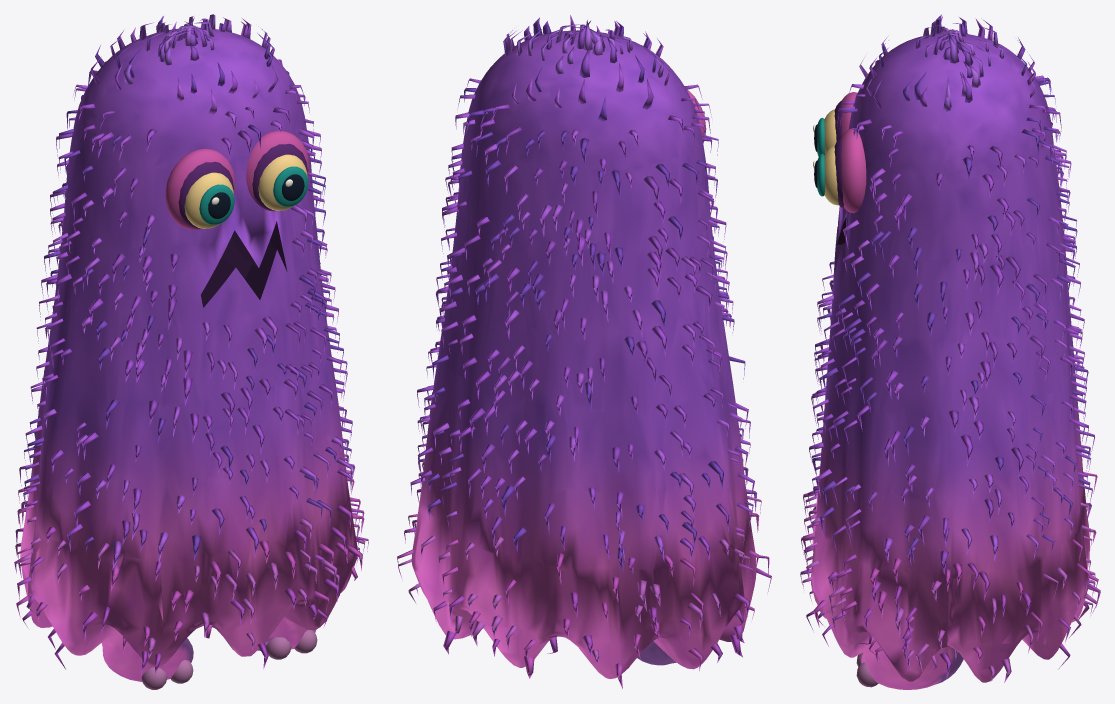
File: 09-paarse-spook.glb
The picture shows the model from 3 angles, left to right: view 1: azimuth 30°, elevation 25°; view 2: azimuth 150°, elevation 25°; view 3: azimuth 270°, elevation 25°; orthographic projection.
Visible parts, largest first — view 1: body_001, head_004, body_051, body_052, body_013, body_027, head_003, head_011, body_049, body_025, body_045, head_012 (+25 smaller); view 2: head_002, body_002, body_041, body_042, head_001, body_010, body_017, head_007, body_040, body_038, body_032, body_060 (+25 smaller); view 3: head_001, head_003, body_015, body_016, body_058, body_007, body_012, body_029, body_030, body_054, body_020, body_009 (+21 smaller).
Part boxes in pixels (left/top/right/bottom): body_001: left=31, top=536, right=163, bottom=681; head_004: left=84, top=30, right=237, bottom=165; body_051: left=41, top=460, right=169, bottom=570; body_052: left=50, top=380, right=162, bottom=489; body_013: left=61, top=304, right=173, bottom=402; body_027: left=66, top=225, right=177, bottom=329; head_003: left=184, top=21, right=309, bottom=158; head_011: left=71, top=147, right=178, bottom=256; body_049: left=158, top=387, right=252, bottom=484; body_025: left=160, top=546, right=256, bottom=640; body_045: left=163, top=469, right=250, bottom=560; head_012: left=165, top=148, right=241, bottom=245; head_002: left=535, top=20, right=689, bottom=175; body_002: left=611, top=545, right=749, bottom=688; body_041: left=609, top=468, right=735, bottom=576; body_042: left=611, top=387, right=729, bottom=492; head_001: left=457, top=21, right=595, bottom=162; body_010: left=600, top=310, right=721, bottom=414; body_017: left=596, top=230, right=712, bottom=337; head_007: left=595, top=149, right=698, bottom=259; body_040: left=515, top=402, right=613, bottom=491; body_038: left=513, top=481, right=611, bottom=584; body_032: left=520, top=557, right=613, bottom=642; body_060: left=519, top=325, right=605, bottom=415; head_001: left=938, top=30, right=1061, bottom=180; head_003: left=837, top=30, right=956, bottom=178; body_015: left=944, top=468, right=1072, bottom=591; body_016: left=946, top=391, right=1058, bottom=501; body_058: left=946, top=544, right=1067, bottom=652; body_007: left=945, top=312, right=1058, bottom=420; body_012: left=947, top=233, right=1053, bottom=339; body_029: left=831, top=468, right=949, bottom=583; body_030: left=841, top=386, right=946, bottom=507; body_054: left=828, top=544, right=946, bottom=654; body_020: left=838, top=233, right=948, bottom=339; body_009: left=841, top=312, right=947, bottom=419.
Bounding box in the file's own units: 2.78 × 5 × 2.19.
